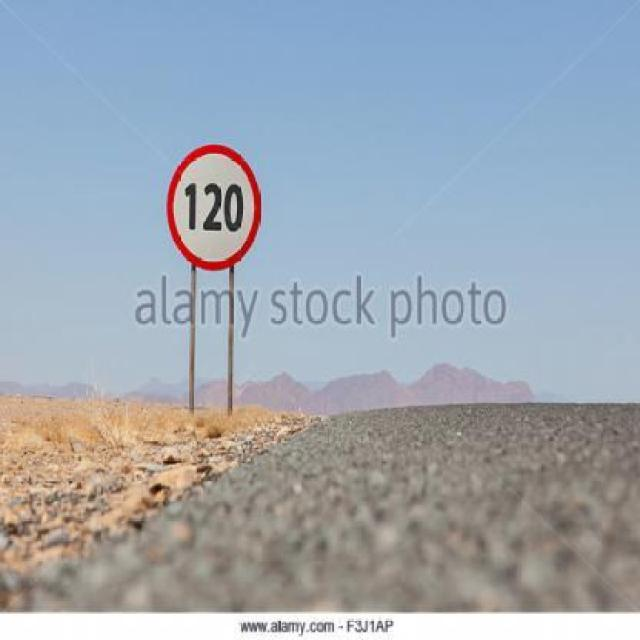forb_speed_over_120: (167, 141, 261, 270)
